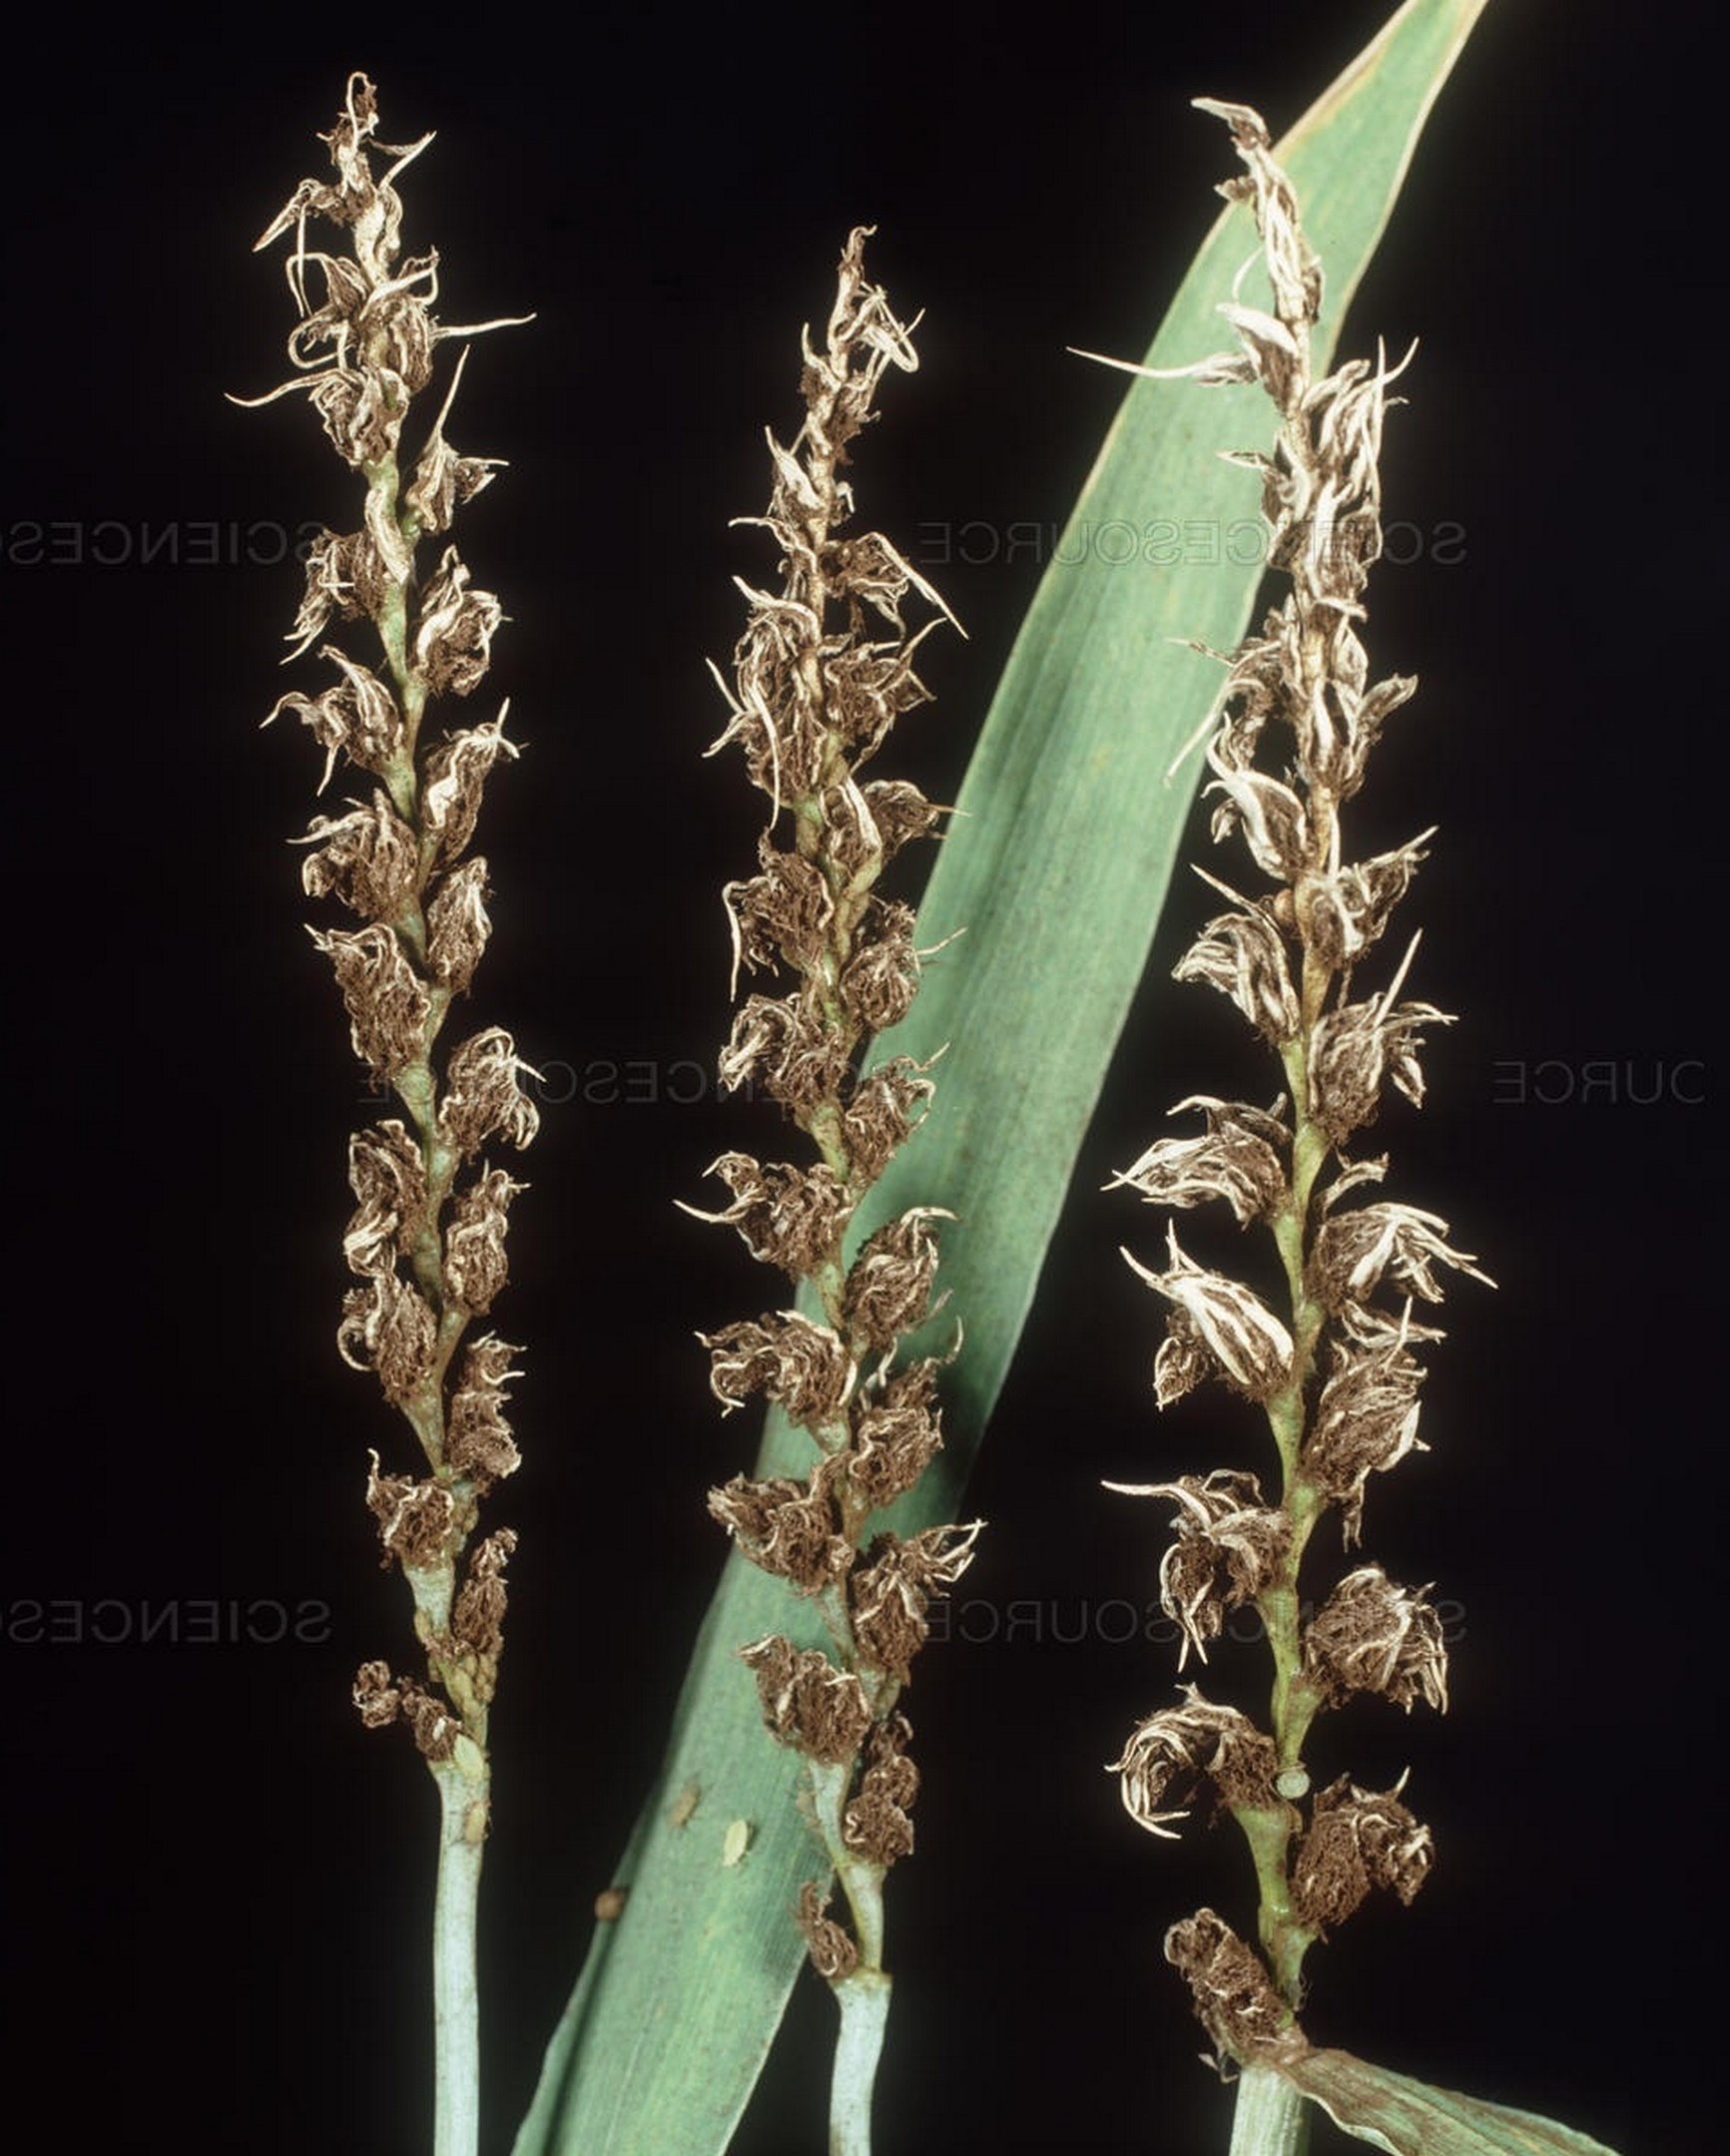Wheat Loose Smut: (1105, 201, 1536, 2047), (221, 81, 598, 1780), (658, 256, 1047, 1904)
